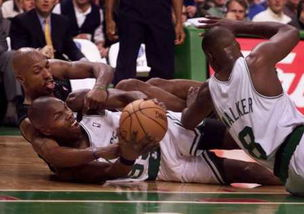10+: (1, 1, 301, 80)
down: (29, 86, 285, 188), (181, 12, 304, 198), (10, 38, 118, 148)
